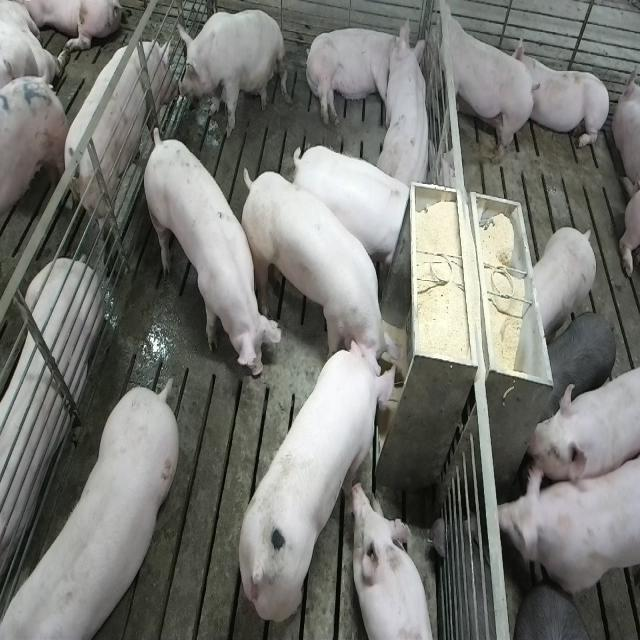Feeding: (236, 333, 400, 625), (243, 167, 411, 386)
Lateral_lying: (303, 19, 413, 129)
Sitting: (176, 8, 286, 138)
Standing: (0, 383, 176, 640), (142, 126, 281, 385), (61, 40, 178, 255), (498, 450, 638, 612), (432, 0, 539, 167), (289, 143, 415, 280), (0, 72, 70, 286), (525, 360, 637, 483), (537, 311, 616, 421), (530, 226, 597, 341), (516, 582, 605, 638)
Sternal_lying: (0, 260, 100, 604), (352, 481, 438, 640), (518, 38, 612, 154), (377, 27, 434, 192)
